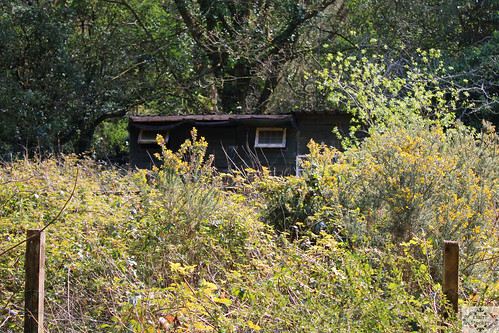building: (127, 106, 370, 183)
vegetation: (17, 150, 499, 333), (1, 1, 499, 106)
